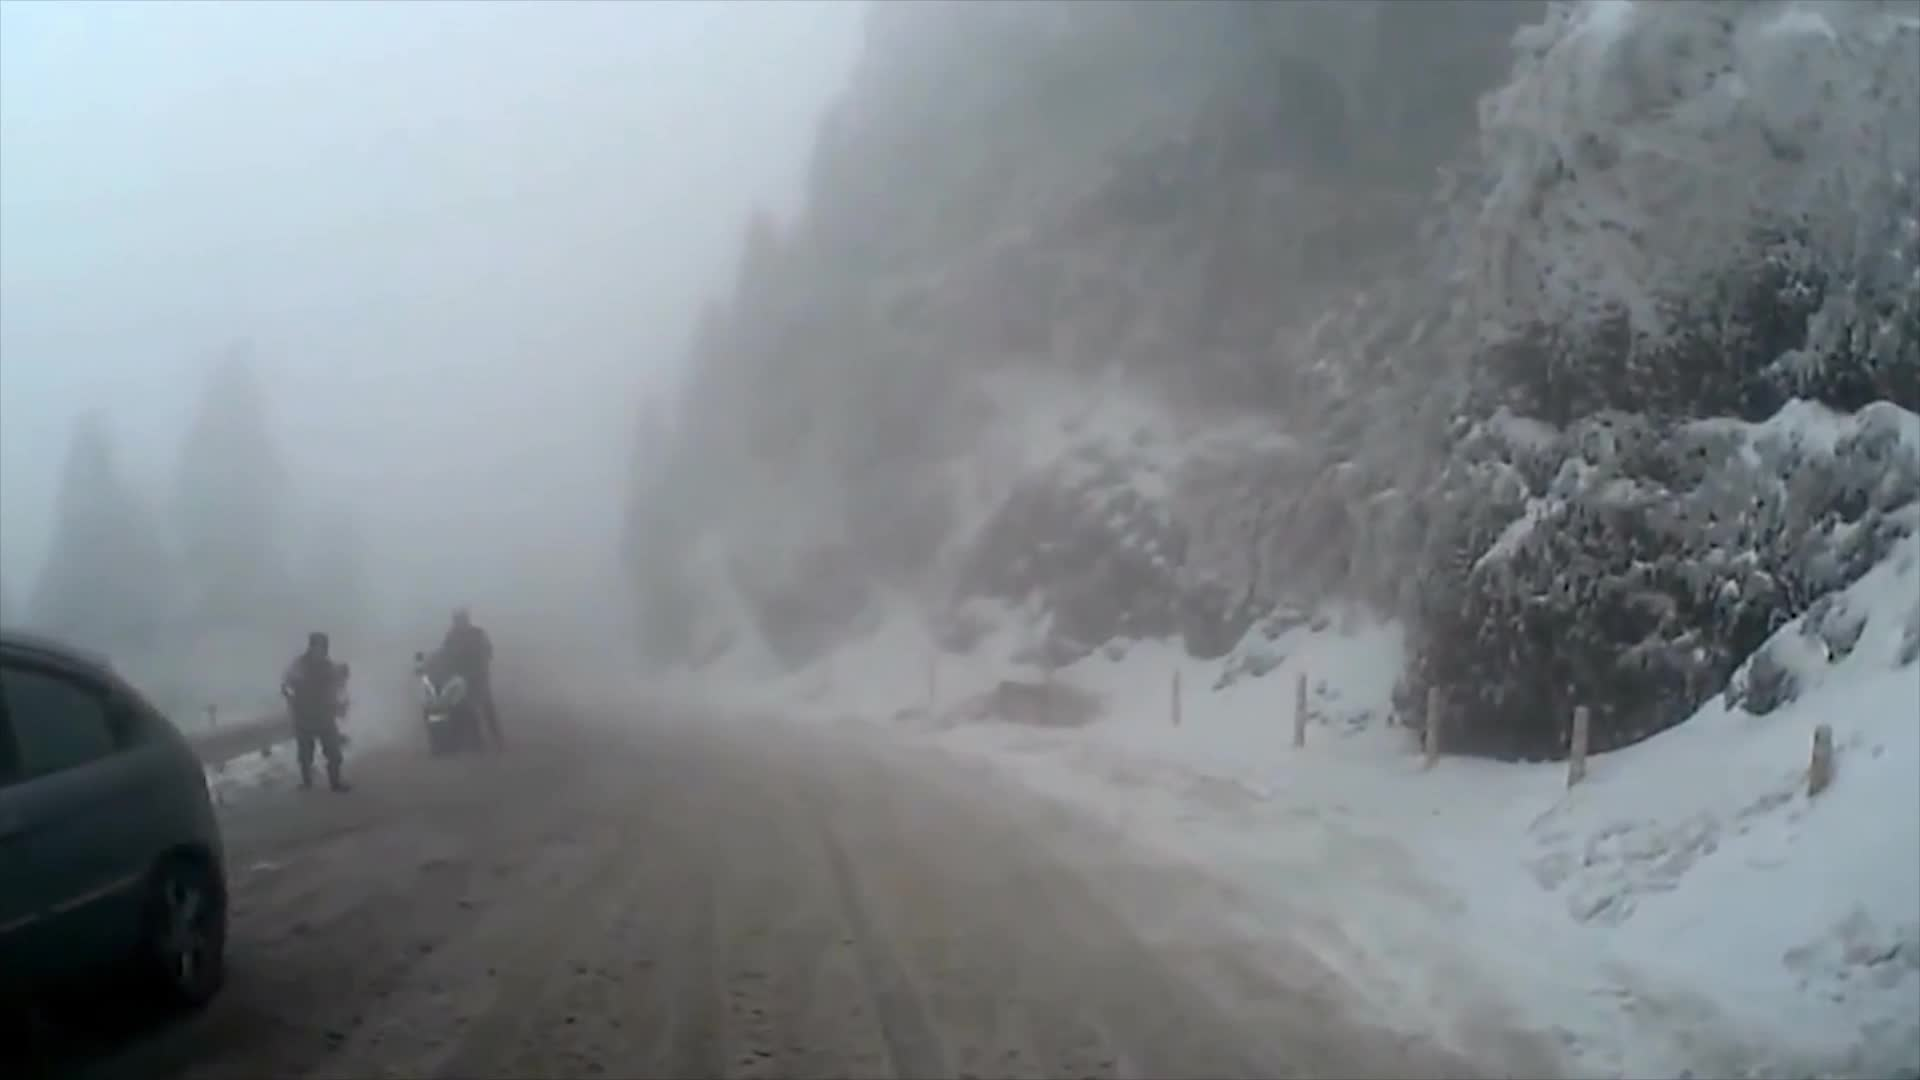pedestrian: (283, 631, 355, 794), (430, 601, 508, 749)
vehicle: (0, 629, 231, 1080)
